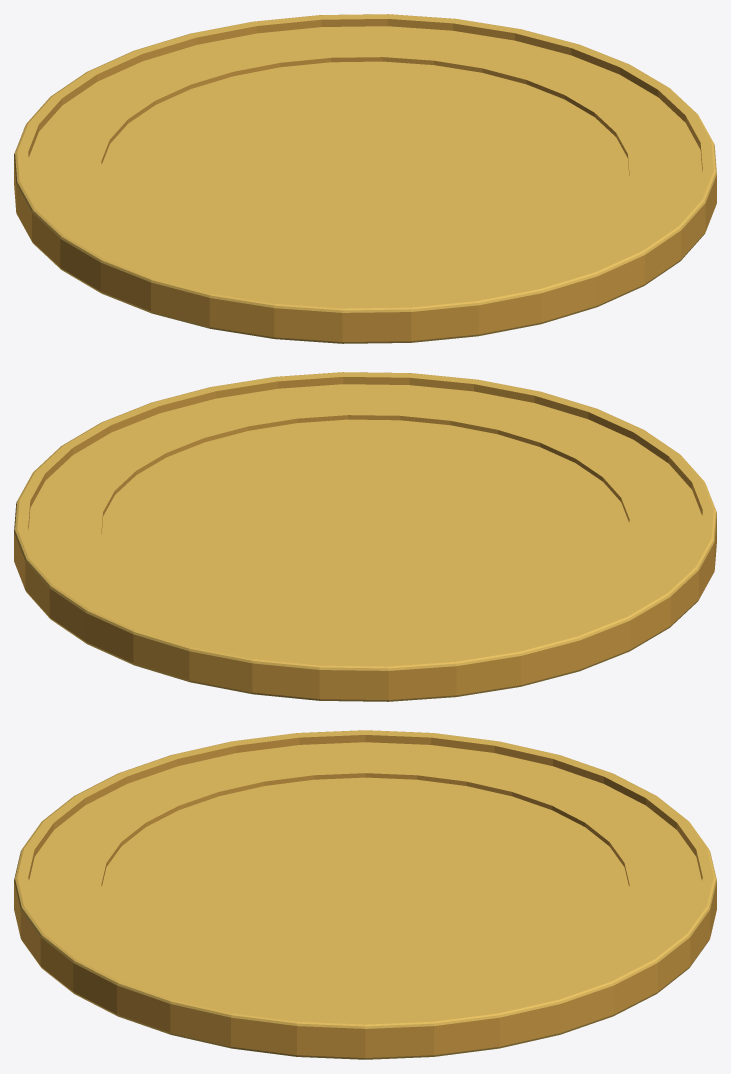
Rendered from moneda.fbx.
3 views of the same model, one above another, from view 1: azimuth 30°, elevation 25°; view 2: azimuth 150°, elevation 25°; view 3: azimuth 270°, elevation 25° (orthographic).
Parts seen in each view (by area): view 1: Cylinder; view 2: Cylinder; view 3: Cylinder.
Boxes of the visible parts, <box> form: Cylinder: <box>14,14,716,343</box>; Cylinder: <box>14,372,716,701</box>; Cylinder: <box>14,730,716,1059</box>.
Size of the model in its own units: 2 by 0.1102 by 2.
